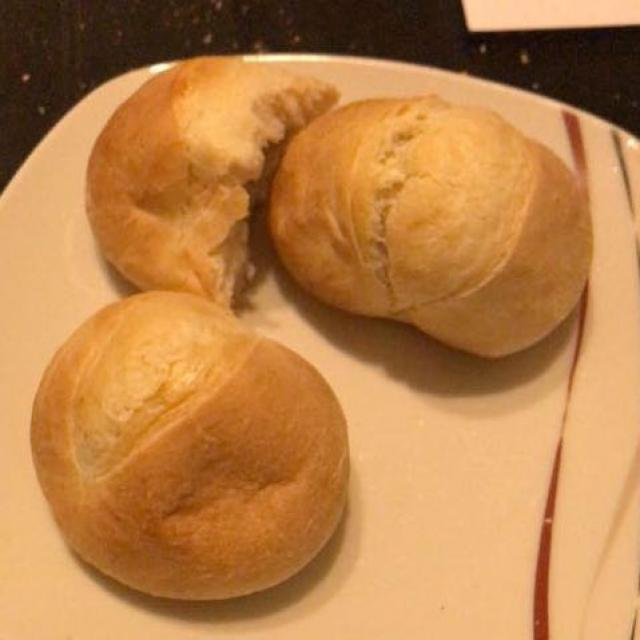bread: (42, 36, 605, 612)
